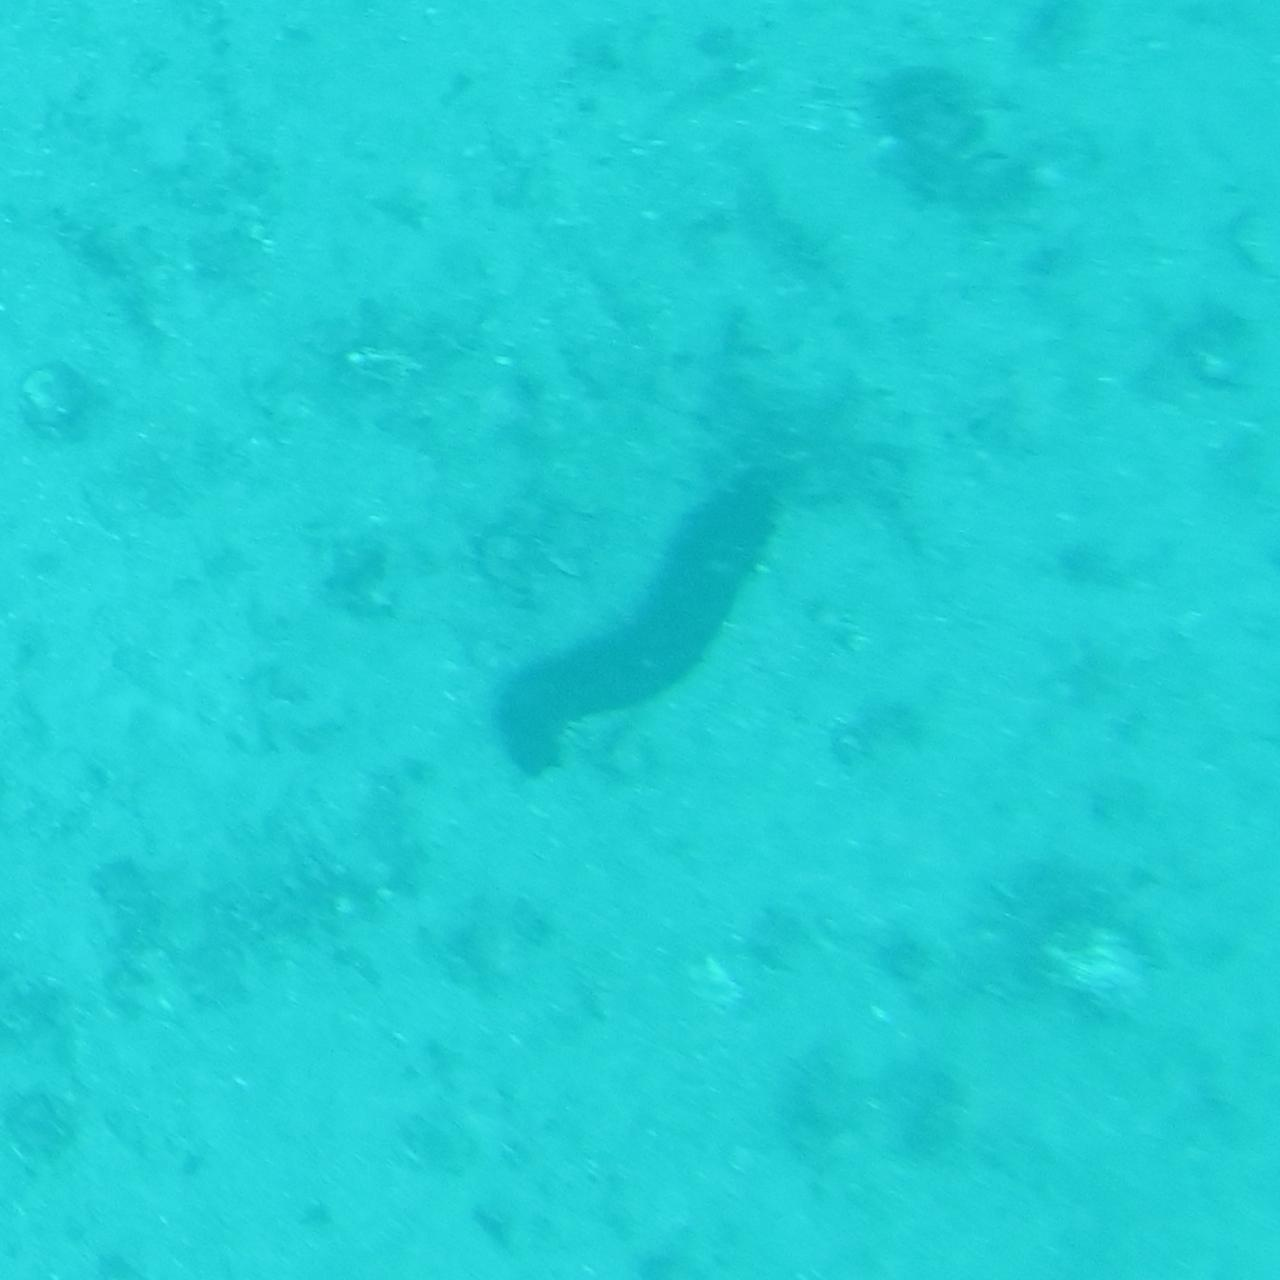Holothuria tubulosa: (496, 496, 784, 784)
